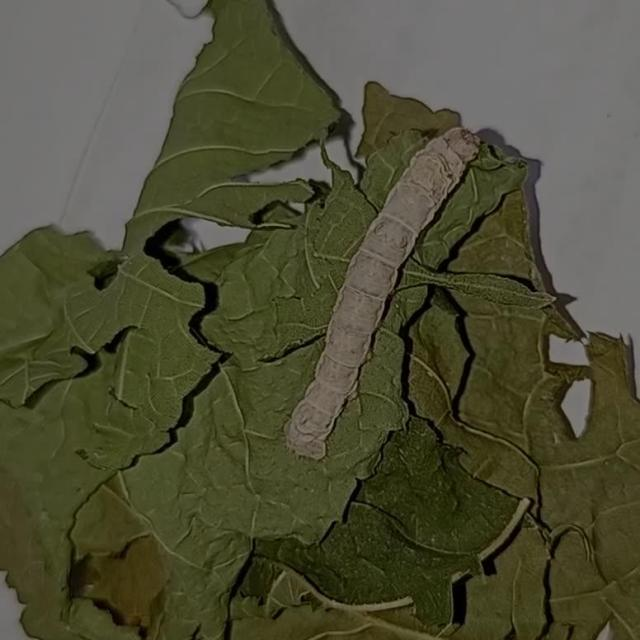Healthy: (264, 100, 505, 470)
